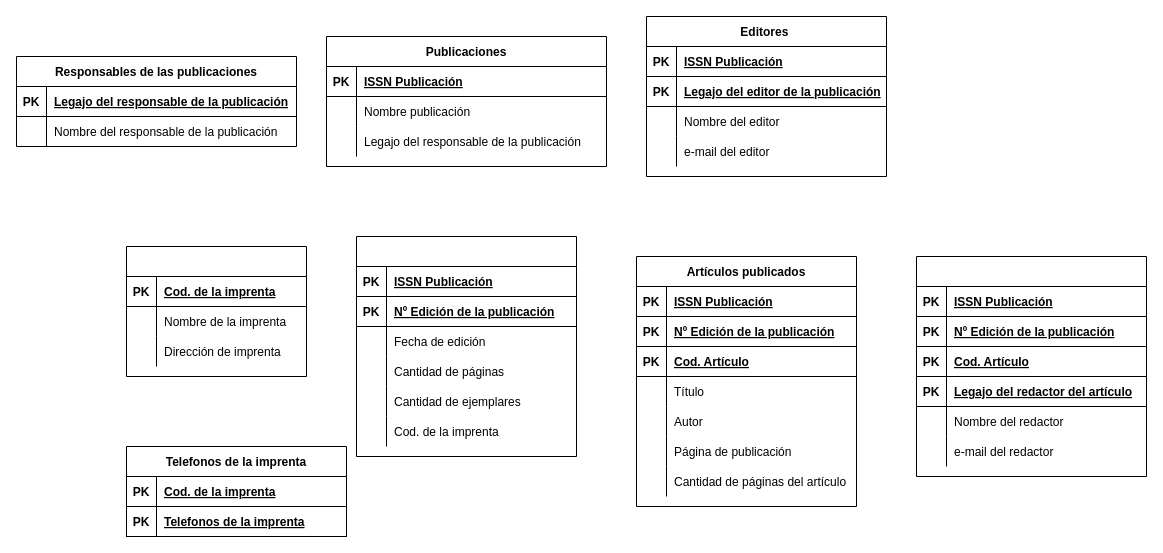
Image size: 1163x553. Some labels were removed from this diagram. The box of each missing label's shape, as (x1, y1, x2, y2) in pixels:
Ediciones: (356, 236, 576, 456)
Imprentas: (126, 246, 306, 376)
Redactores: (916, 256, 1146, 476)
